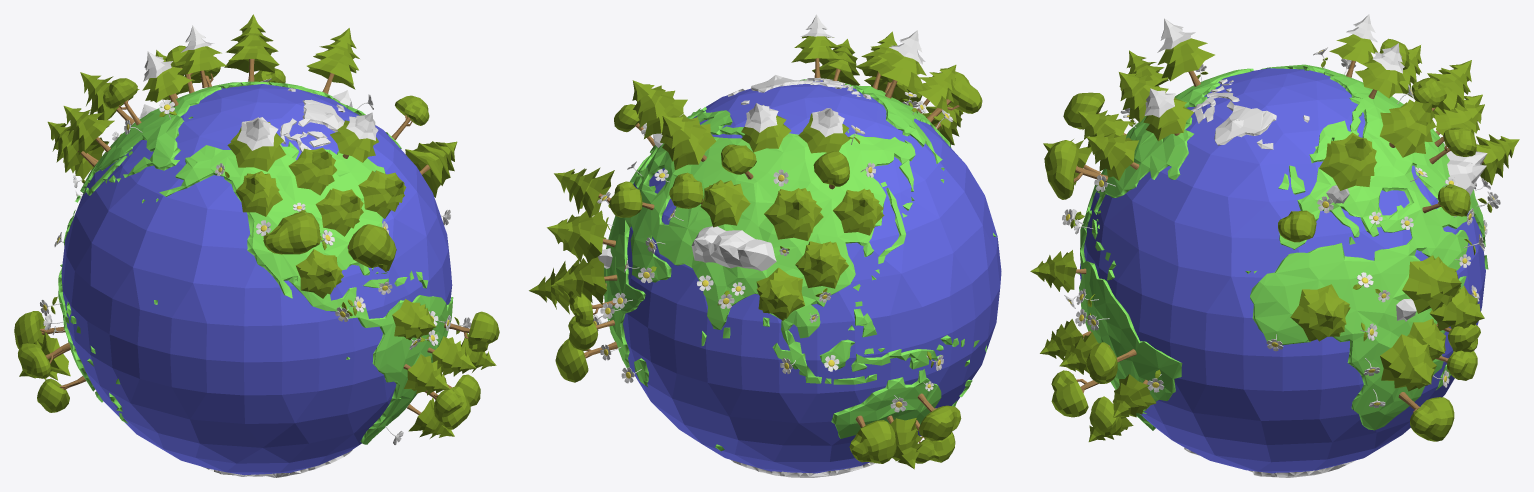
The model's file is LP_Planet.fbx.
The picture shows the model from 3 angles, left to right: view 1: azimuth 30°, elevation 25°; view 2: azimuth 150°, elevation 25°; view 3: azimuth 270°, elevation 25°; orthographic projection. The views are drawn at different scales.
Visible parts, largest first — view 1: Sphere, Globo_Sphere.003, Cylinder.002, Cylinder.023, Cylinder.003, Cylinder.013, Cylinder.008, Cylinder.015, Cylinder.076, Cylinder.010, Cylinder.006, Cylinder.004 (+19 smaller); view 2: Sphere, Globo_Sphere.003, Cylinder.048, Cylinder.025, Cylinder.023, Cylinder.016, Cylinder.002, Cylinder.013, Cylinder.090, Cylinder.026, Cylinder.027, Cylinder.015 (+23 smaller); view 3: Sphere, Globo_Sphere.003, Cylinder.015, Cylinder.023, Cylinder.013, Cylinder.016, Cylinder.018, Cylinder.002, Cylinder.008, Cylinder.076, Cylinder.075, Cylinder.019 (+26 smaller).
Boxes of the visible parts, x1=… form: Sphere: x1=61, y1=84, x2=452, y2=475; Globo_Sphere.003: x1=58, y1=81, x2=453, y2=477; Cylinder.002: x1=227, y1=117, x2=285, y2=171; Cylinder.023: x1=224, y1=14, x2=279, y2=81; Cylinder.003: x1=263, y1=211, x2=320, y2=254; Cylinder.013: x1=307, y1=28, x2=359, y2=93; Cylinder.008: x1=347, y1=224, x2=396, y2=271; Cylinder.015: x1=405, y1=141, x2=457, y2=197; Cylinder.076: x1=330, y1=112, x2=378, y2=162; Cylinder.010: x1=296, y1=249, x2=343, y2=298; Cylinder.006: x1=315, y1=188, x2=363, y2=236; Cylinder.004: x1=288, y1=147, x2=336, y2=195; Sphere: x1=623, y1=80, x2=1001, y2=473; Globo_Sphere.003: x1=604, y1=75, x2=996, y2=477; Cylinder.048: x1=691, y1=226, x2=776, y2=271; Cylinder.025: x1=764, y1=188, x2=823, y2=240; Cylinder.023: x1=660, y1=114, x2=716, y2=170; Cylinder.016: x1=547, y1=210, x2=615, y2=262; Cylinder.002: x1=868, y1=30, x2=926, y2=98; Cylinder.013: x1=632, y1=80, x2=687, y2=138; Cylinder.090: x1=756, y1=267, x2=804, y2=320; Cylinder.026: x1=795, y1=241, x2=848, y2=288; Cylinder.027: x1=849, y1=415, x2=896, y2=463; Cylinder.015: x1=554, y1=167, x2=614, y2=217; Sphere: x1=1080, y1=68, x2=1485, y2=473; Globo_Sphere.003: x1=1077, y1=64, x2=1488, y2=477; Cylinder.015: x1=1290, y1=284, x2=1350, y2=341; Cylinder.023: x1=1380, y1=99, x2=1436, y2=157; Cylinder.013: x1=1319, y1=132, x2=1376, y2=190; Cylinder.016: x1=1402, y1=255, x2=1461, y2=313; Cylinder.018: x1=1380, y1=334, x2=1436, y2=391; Cylinder.002: x1=1157, y1=18, x2=1214, y2=86; Cylinder.008: x1=1044, y1=140, x2=1107, y2=199; Cylinder.076: x1=1143, y1=88, x2=1193, y2=141; Cylinder.075: x1=1355, y1=43, x2=1405, y2=98; Cylinder.019: x1=1398, y1=392, x2=1454, y2=441.
Bounding box in the file's own units: 766 × 719 × 753.
